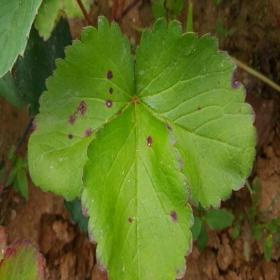Leaf Spot: (134, 16, 260, 213), (82, 96, 195, 279), (28, 15, 135, 203)
